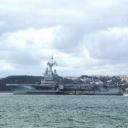Portanaves: (6, 55, 126, 96)
